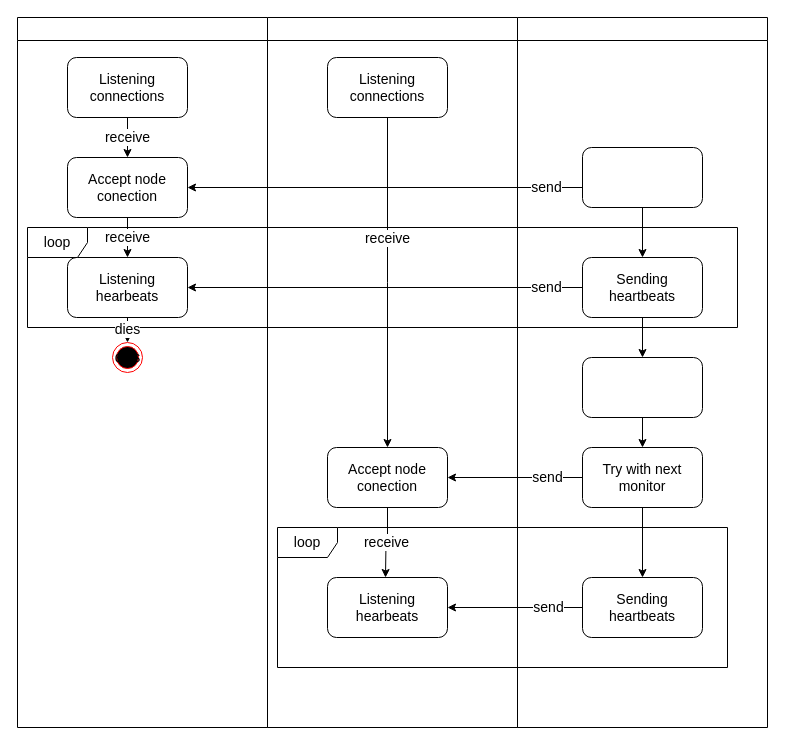
This 785x745 diagram has some shape labels left out. The shapes that lost their labels are listed below. From the top down, each one's box as (x1, y1, x2, y2) in pixels, then its label:
(582, 146, 702, 208): Trying to connect with monitor
(16, 16, 268, 728): Monitor 1
(266, 16, 518, 728): Monitor 2
(516, 16, 768, 728): Node
(582, 356, 702, 418): Failed sending heartbeat
